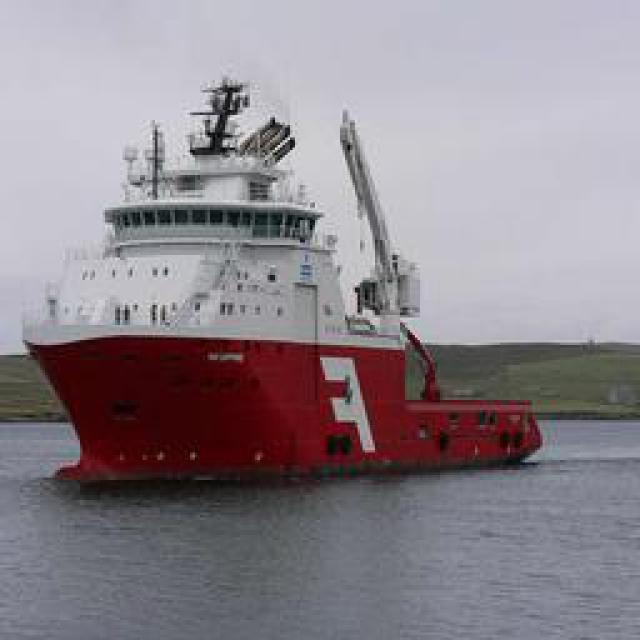Ship: (17, 69, 567, 479)
